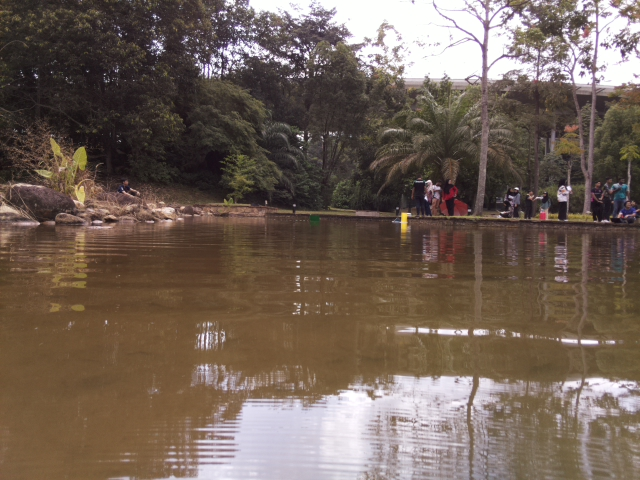obstacle: (308, 213, 319, 223)
